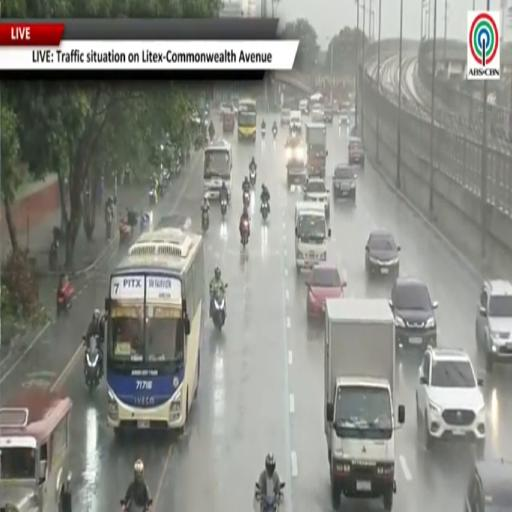bus: (105, 229, 204, 434), (204, 140, 232, 199), (238, 100, 257, 141)
car: (416, 347, 485, 457), (389, 277, 438, 349), (476, 280, 511, 372), (465, 459, 511, 511), (306, 264, 346, 317), (366, 229, 400, 277), (303, 178, 329, 216), (333, 164, 356, 201), (156, 214, 191, 230), (348, 137, 365, 167), (323, 104, 334, 124), (220, 103, 233, 119), (280, 108, 290, 126), (311, 109, 323, 122), (339, 115, 349, 124)
jeepney: (0, 389, 71, 511), (285, 137, 306, 186), (222, 110, 235, 134)
motorcycle: (83, 336, 103, 392), (255, 483, 285, 511), (119, 210, 138, 247), (57, 281, 74, 316), (212, 293, 226, 330), (119, 220, 133, 246), (120, 500, 152, 511), (49, 240, 58, 270), (106, 207, 113, 239), (242, 219, 250, 247), (140, 213, 151, 233), (220, 197, 227, 219), (202, 210, 209, 232), (149, 187, 157, 206), (261, 201, 269, 220), (249, 170, 256, 187), (243, 191, 250, 207), (291, 127, 297, 137), (261, 127, 266, 138), (273, 127, 277, 138)
truck: (325, 298, 404, 510), (306, 123, 327, 179)
